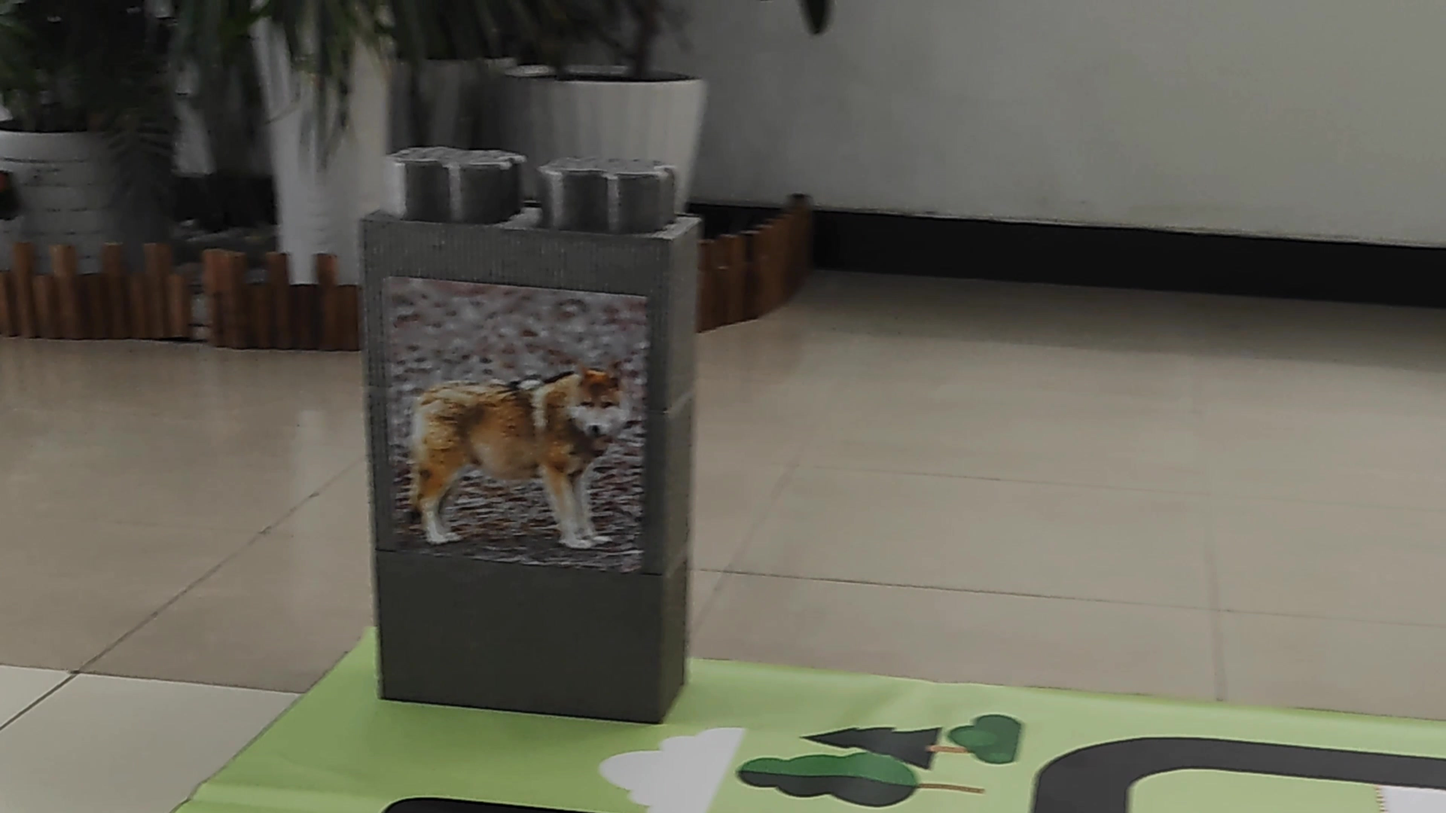wolf: (383, 309, 642, 559)
